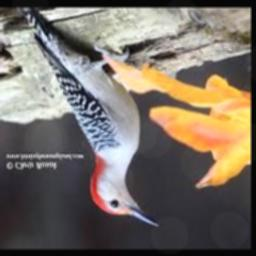Woodpecker: (18, 8, 159, 228)
